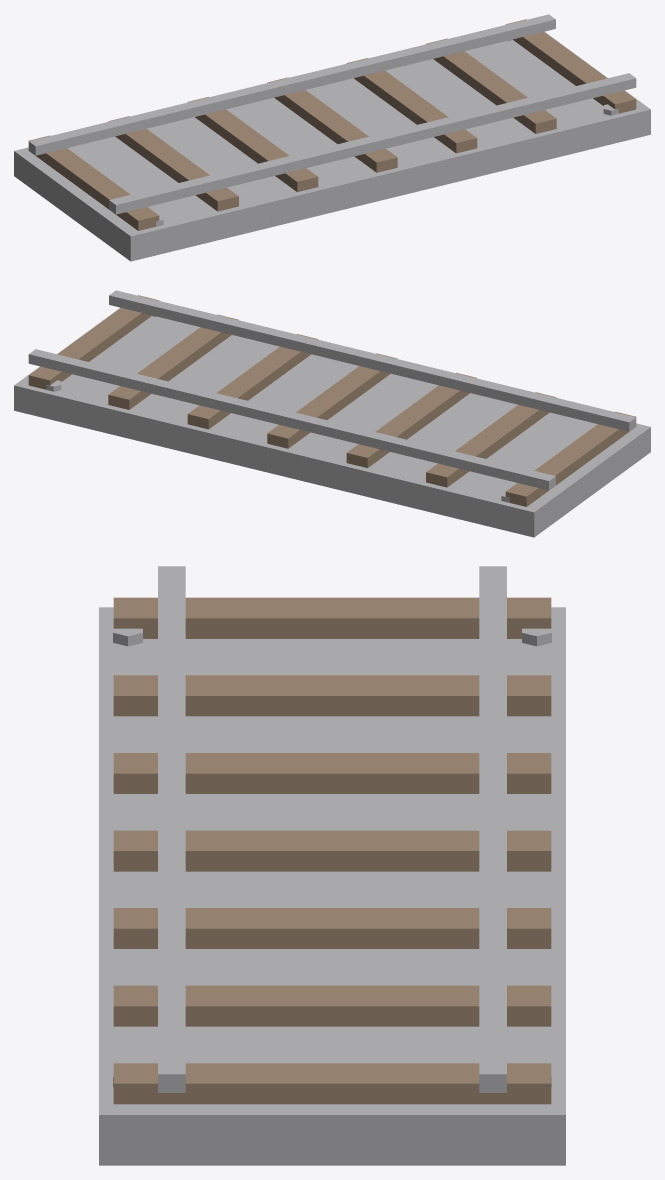
File: rail_track_uncommon.glb
The picture shows the model from 3 angles, top to bottom: view 1: azimuth 30°, elevation 25°; view 2: azimuth 150°, elevation 25°; view 3: azimuth 270°, elevation 25°; orthographic projection. The views are drawn at different scales.
Parts seen in each view (by area): view 1: rail_track; view 2: rail_track; view 3: rail_track.
Boxes of the visible parts, x1,y1,x2,y2 form: rail_track: (14, 14, 650, 261); rail_track: (14, 290, 650, 537); rail_track: (99, 566, 565, 1165).
Size of the model in its own units: 3.46 by 0.29 by 1.34.
